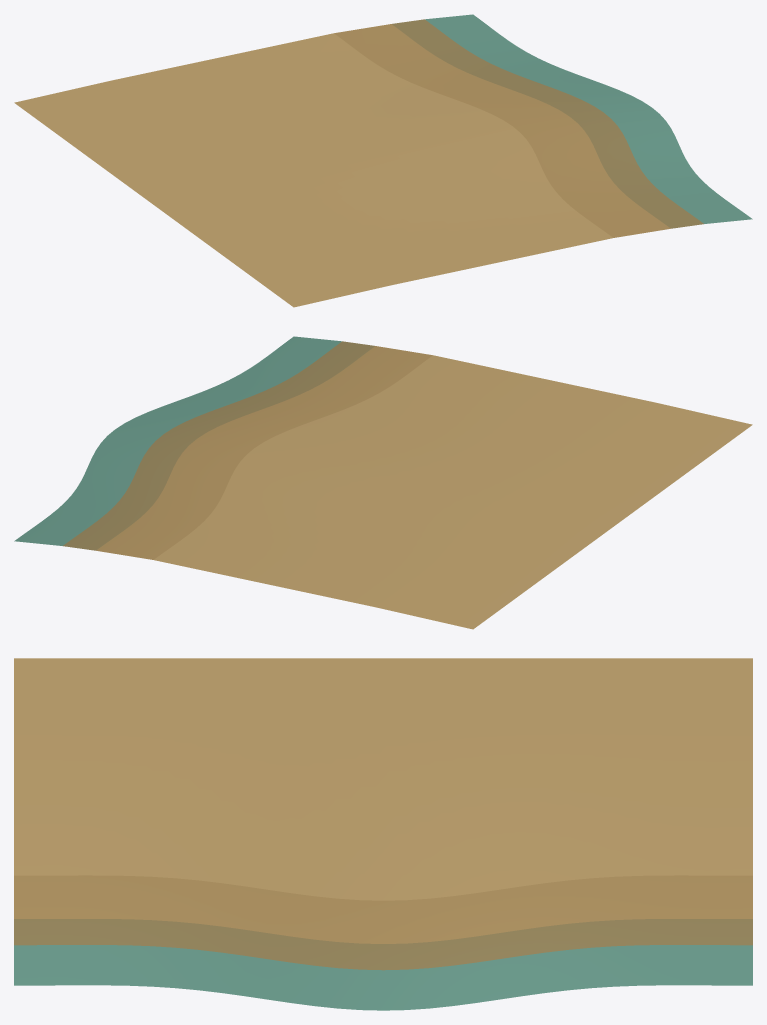
Rendered from beach_8m.glb.
The picture shows the model from 3 angles, top to bottom: view 1: azimuth 30°, elevation 25°; view 2: azimuth 150°, elevation 25°; view 3: azimuth 270°, elevation 25°; orthographic projection. The views are drawn at different scales.
Parts seen in each view (by area): view 1: beach_8m; view 2: beach_8m; view 3: beach_8m.
Part boxes in pixels (box(x1,y1,x2,y2)): beach_8m: box(14, 14, 752, 307); beach_8m: box(14, 336, 752, 629); beach_8m: box(14, 658, 752, 1010).
Size of the model in its own units: 8.22 by 0.375 by 8.
